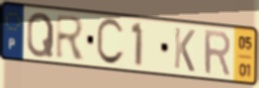1: (129, 21, 146, 69)
C: (95, 17, 126, 68)
K: (172, 25, 197, 74)
Q: (25, 11, 56, 59)
R: (55, 12, 87, 62), (202, 28, 233, 78)
